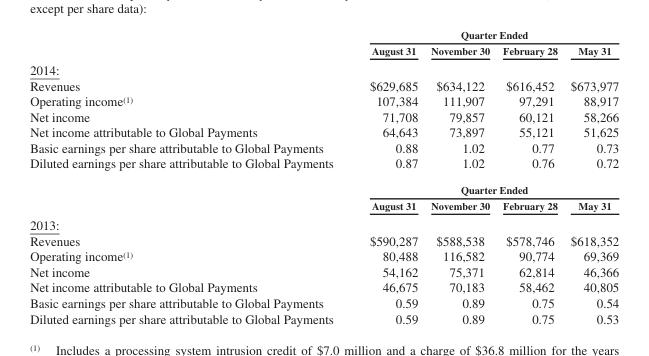table: (29, 28, 618, 325)
table column: (29, 28, 350, 325), (350, 28, 423, 325), (423, 28, 495, 325), (495, 28, 563, 325), (563, 28, 618, 325)
table column header: (29, 28, 618, 59)
table projected row header: (29, 59, 618, 77), (29, 214, 618, 232)
table row: (29, 155, 618, 176), (29, 176, 618, 197), (29, 59, 618, 77), (29, 214, 618, 232), (29, 42, 618, 59), (29, 197, 618, 214), (29, 77, 618, 93), (29, 108, 618, 124), (29, 139, 618, 155), (29, 232, 618, 248), (29, 263, 618, 279), (29, 294, 618, 310), (29, 93, 618, 108), (29, 124, 618, 139), (29, 248, 618, 263), (29, 279, 618, 294), (29, 310, 618, 325), (29, 28, 618, 42)
table spanning cell: (350, 176, 618, 197), (350, 28, 618, 42)
